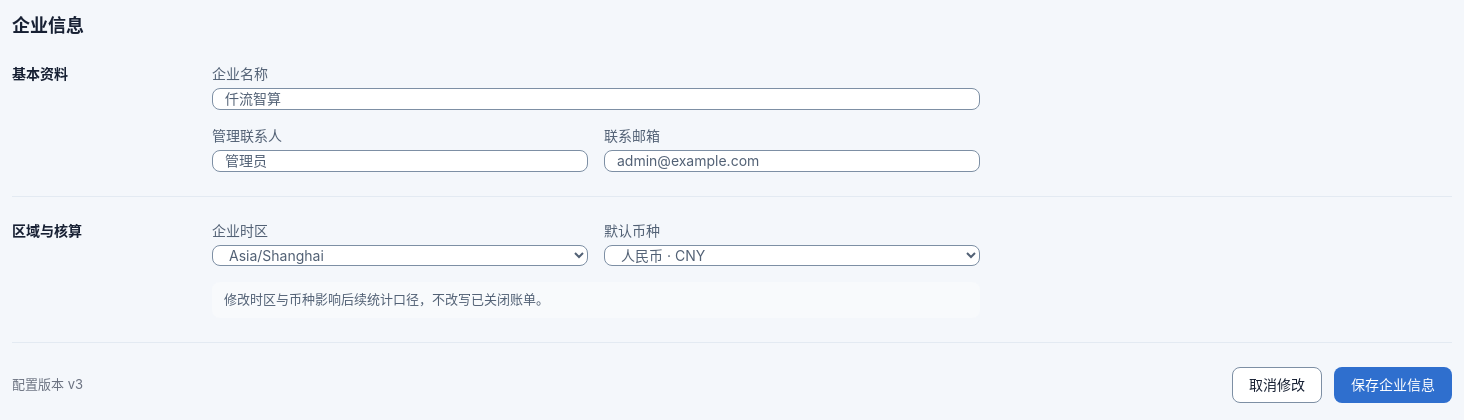
Test: POOL-026 系统升级日志 › 取消修改恢复已保存企业资料
The image size is (1464, 420).
Replace the text in the field labelled "管理联系人" with "未保存". click: (400, 161)
box: [212,150,588,172]
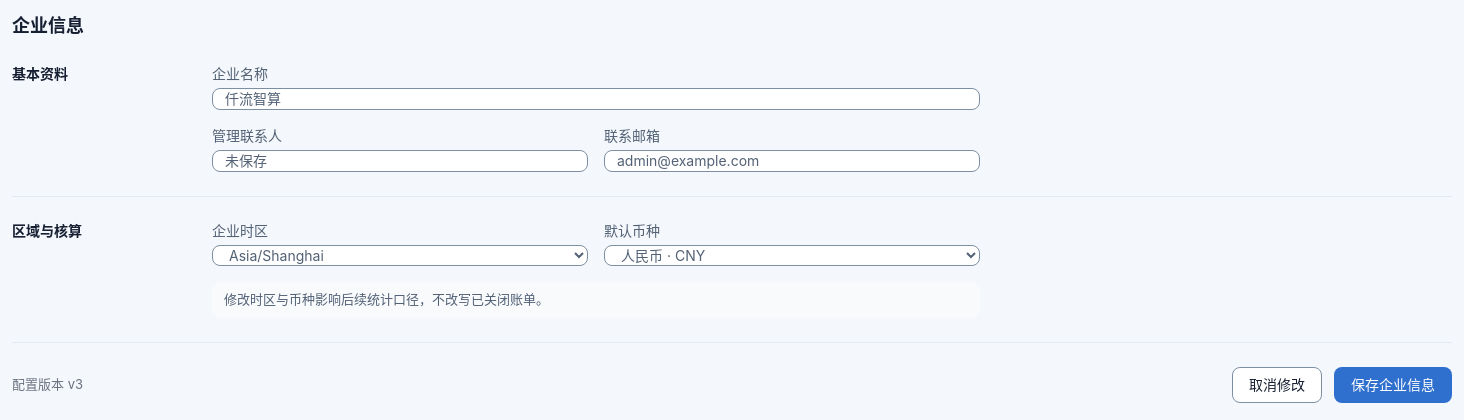
Click the button "取消修改". click: (1277, 384)
box: [1232,366,1322,402]
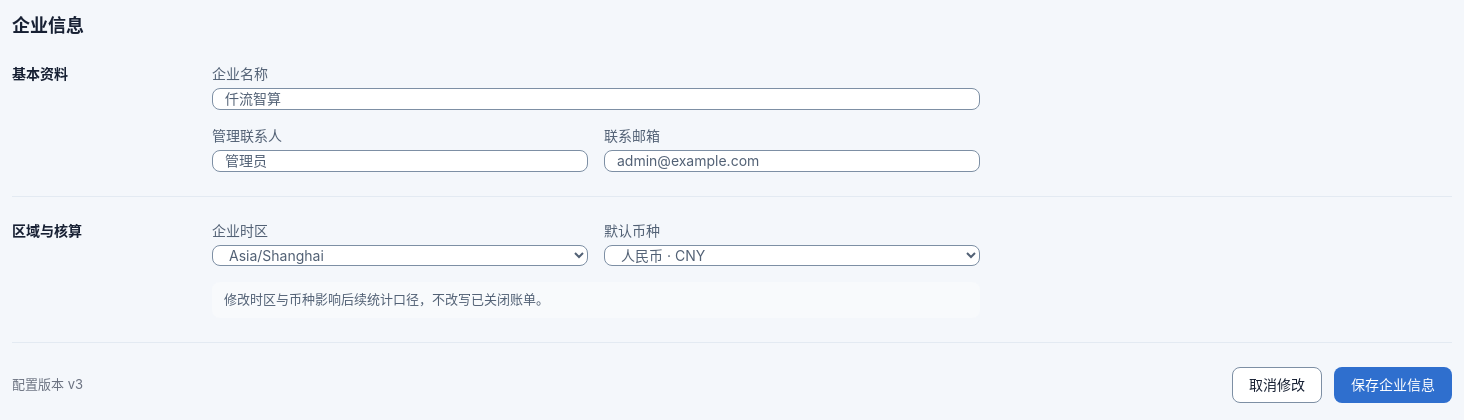
Check: the field labelled "管理联系人" holds "管理员", box [212,150,588,172]
